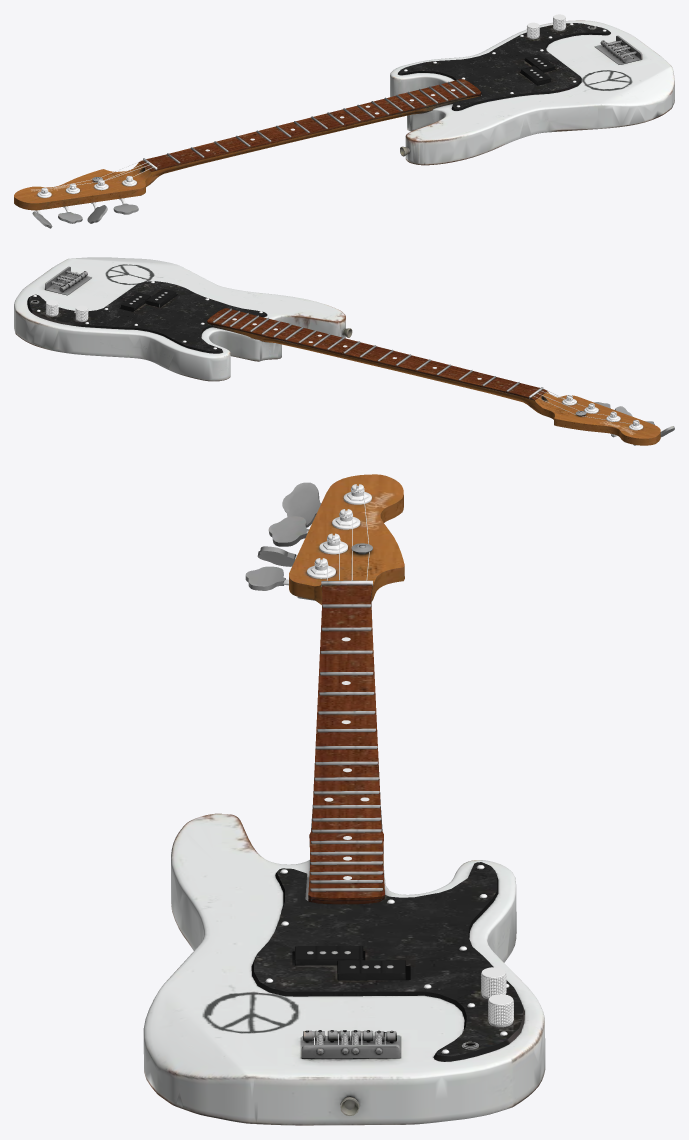
Rendered from guitar-bass.glb.
3 views of the same model, one above another, from view 1: azimuth 30°, elevation 25°; view 2: azimuth 150°, elevation 25°; view 3: azimuth 270°, elevation 25° (orthographic). The views are drawn at different scales.
Visible parts, largest first — view 1: part4, part2, part3, part1, part34, part6; view 2: part4, part2, part3, part1, part34, part6, stringEnds, part5; view 3: part4, part2, part3, part1, part34, part5, part6, part12.
Part boxes in pixels (x1,y1,x2,y2): part4: (390,20,674,165); part2: (398,23,610,110); part3: (139,79,481,171); part1: (14,95,480,210); part34: (92,25,642,182); part6: (521,66,551,85); part4: (14,257,345,381); part2: (27,281,267,353); part3: (207,308,547,400); part1: (207,323,660,445); part34: (30,266,586,416); part6: (146,288,176,307); stringEnds: (55,272,639,424); part5: (121,292,150,311); part4: (143,813,545,1125); part2: (251,862,524,1061); part3: (308,584,384,900); part1: (289,474,404,904); part34: (301,543,478,1115); part5: (337,960,405,980); part6: (295,945,363,965); part12: (282,482,321,527).
Size of the model in its own units: 32.69 by 1.93 by 9.04.
35 materials, 14 textured.
